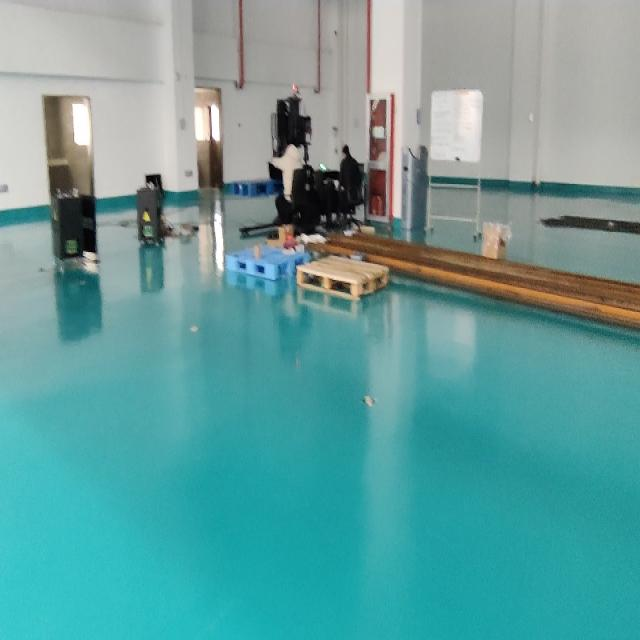euro: (296, 252, 393, 305)
